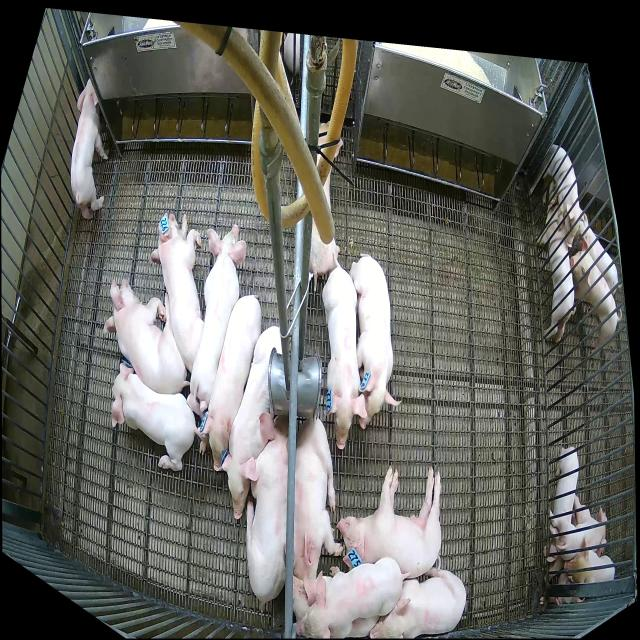pig: (220, 325, 282, 520), (337, 465, 442, 578), (188, 224, 246, 419), (199, 295, 262, 470), (104, 279, 190, 393), (112, 362, 199, 471), (296, 557, 407, 638), (349, 257, 401, 429), (149, 212, 204, 373), (322, 259, 368, 450), (293, 418, 344, 580), (247, 412, 289, 603), (370, 568, 466, 639), (309, 121, 343, 292), (292, 575, 382, 637), (71, 79, 109, 220)
